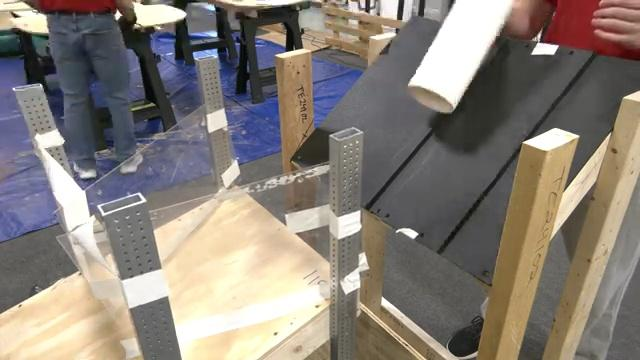CORAL: (406, 0, 513, 114)
